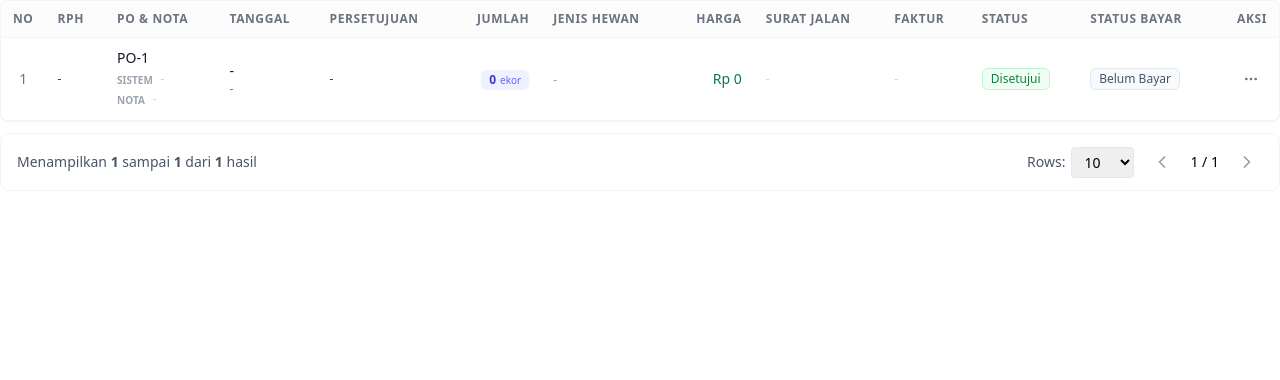
approved status 2 exposes documents and paid receipt
Click the button named "Menu Aksi" at [1251, 79], box [1235,63,1267,95]
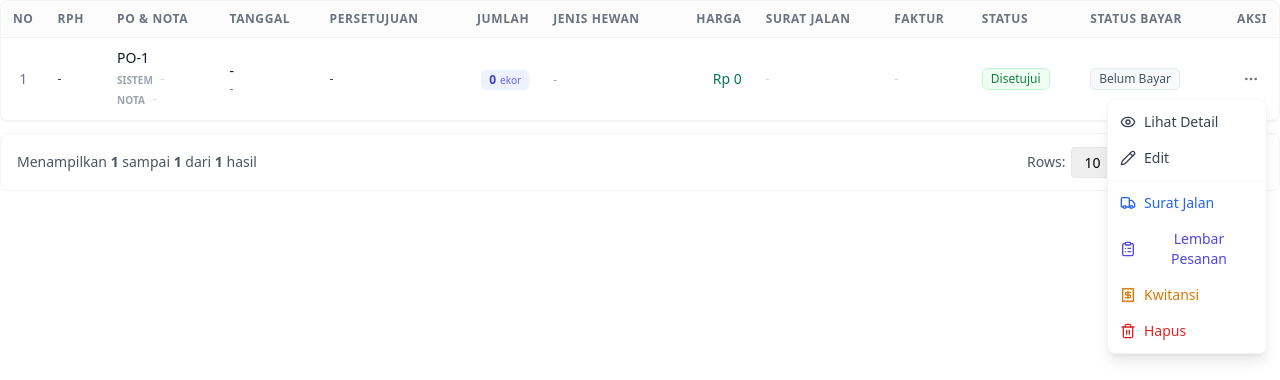
expect the menu item "Surat Jalan" is shown: met, box [1108,185,1266,221]
expect the menu item "Lembar Pesanan" is shown: met, box [1108,221,1266,277]
expect the menu item "Kwitansi" is shown: met, box [1108,277,1266,313]
